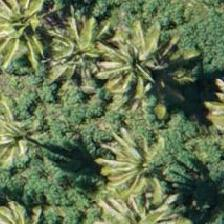coconut_tree: (92, 19, 182, 109), (84, 124, 174, 214), (33, 8, 123, 98), (0, 100, 68, 190), (0, 0, 73, 74)
